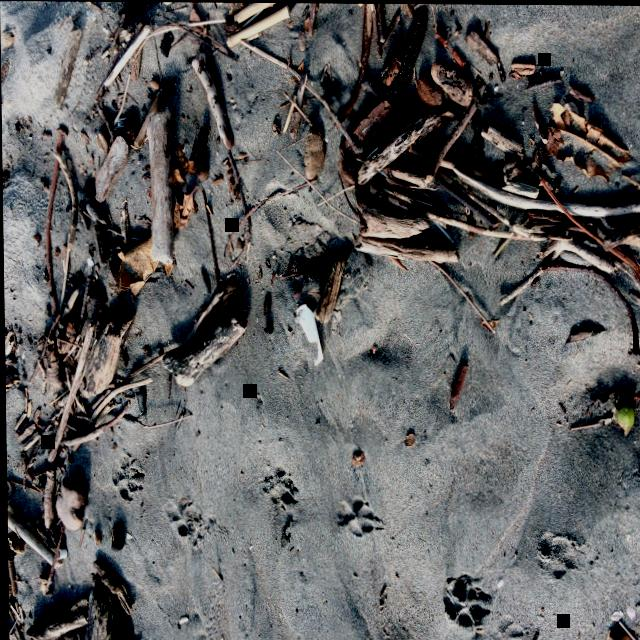Other plastic bottle: (295, 303, 322, 364)
Plastic bottle cap: (55, 548, 66, 559)
